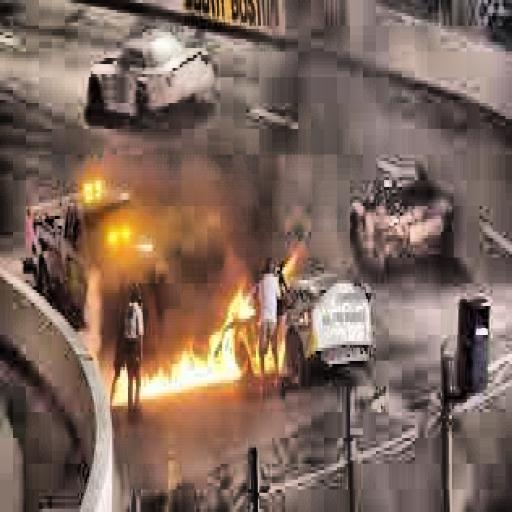fire: (107, 254, 295, 409)
